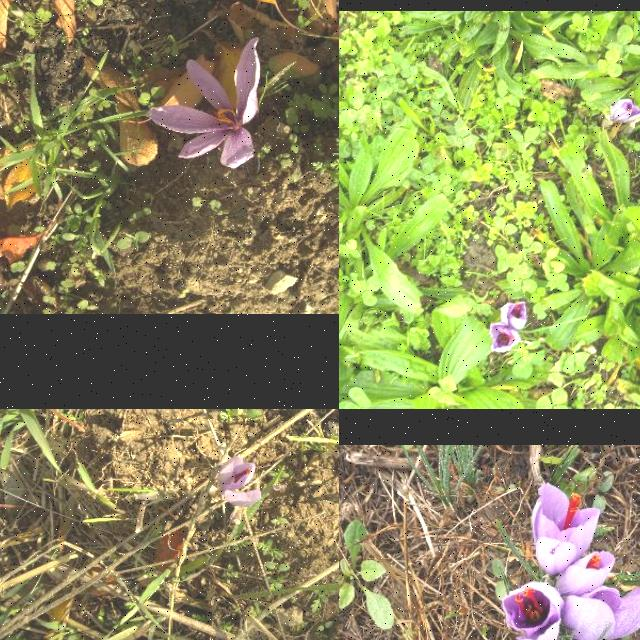flower: (147, 38, 261, 170), (532, 483, 600, 575), (562, 577, 640, 640), (502, 581, 566, 640), (556, 550, 616, 596), (216, 456, 262, 506), (490, 323, 522, 352), (500, 302, 528, 331), (610, 99, 640, 124)
